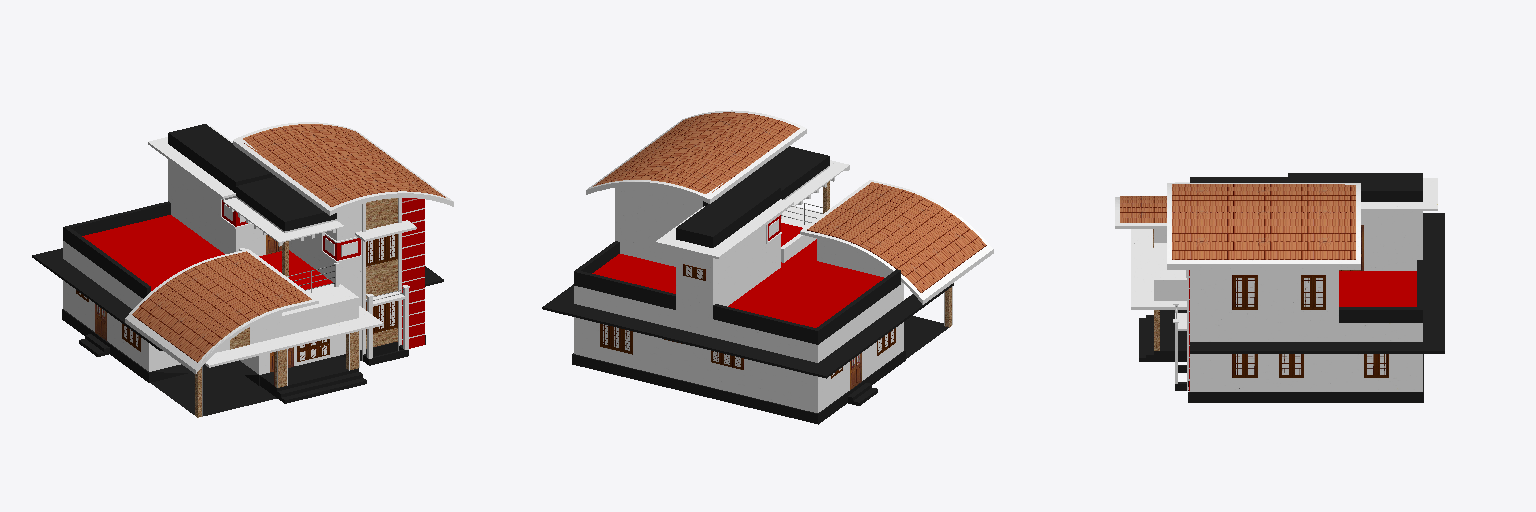
3 renders of one model, left to right at view 1: azimuth 30°, elevation 25°; view 2: azimuth 150°, elevation 25°; view 3: azimuth 270°, elevation 25°, orthographic.
Visible parts, largest first — view 1: Object01, Object02, Object06, Object54, Object03, Object88, Object93, Object78, Object87, Object14, Object76, Object43 (+14 smaller); view 2: Object03, Object06, Object01, Object02, Object54, Object43, Object88, Object97, Object78, Object87, Object76, Object38 (+7 smaller); view 3: Object02, Object03, Object06, Object43, Object38, Object54, Object40, Object88, Object72, Object95, Object01, Object90 (+9 smaller).
Boxes of the visible parts, x1,y1,x2,y2 form: Object01: [132, 251, 311, 362]; Object02: [243, 124, 445, 206]; Object06: [168, 159, 361, 285]; Object54: [82, 215, 332, 290]; Object03: [63, 241, 361, 374]; Object88: [168, 124, 275, 192]; Object93: [151, 373, 276, 415]; Object78: [63, 201, 170, 298]; Object87: [236, 177, 336, 230]; Object14: [402, 199, 424, 348]; Object76: [125, 249, 318, 373]; Object43: [32, 248, 443, 350]; Object03: [574, 283, 903, 412]; Object06: [615, 186, 780, 318]; Object01: [807, 182, 986, 292]; Object02: [593, 112, 799, 193]; Object54: [592, 223, 883, 327]; Object43: [542, 283, 953, 378]; Object88: [676, 179, 780, 247]; Object97: [573, 350, 905, 424]; Object78: [713, 269, 900, 344]; Object87: [745, 146, 829, 199]; Object76: [800, 180, 993, 304]; Object38: [586, 110, 806, 203]; Object02: [1172, 184, 1355, 259]; Object03: [1190, 323, 1422, 391]; Object06: [1190, 211, 1422, 322]; Object43: [1190, 213, 1444, 353]; Object38: [1167, 183, 1360, 269]; Object54: [1339, 271, 1416, 306]; Object40: [1188, 392, 1423, 402]; Object88: [1288, 173, 1422, 201]; Object72: [1131, 229, 1153, 300]; Object95: [1339, 307, 1422, 322]; Object01: [1120, 196, 1166, 222]; Object90: [1361, 178, 1437, 210].
Bounding box in the file's own units: 262 × 151 × 262.
9 materials, 8 textured.